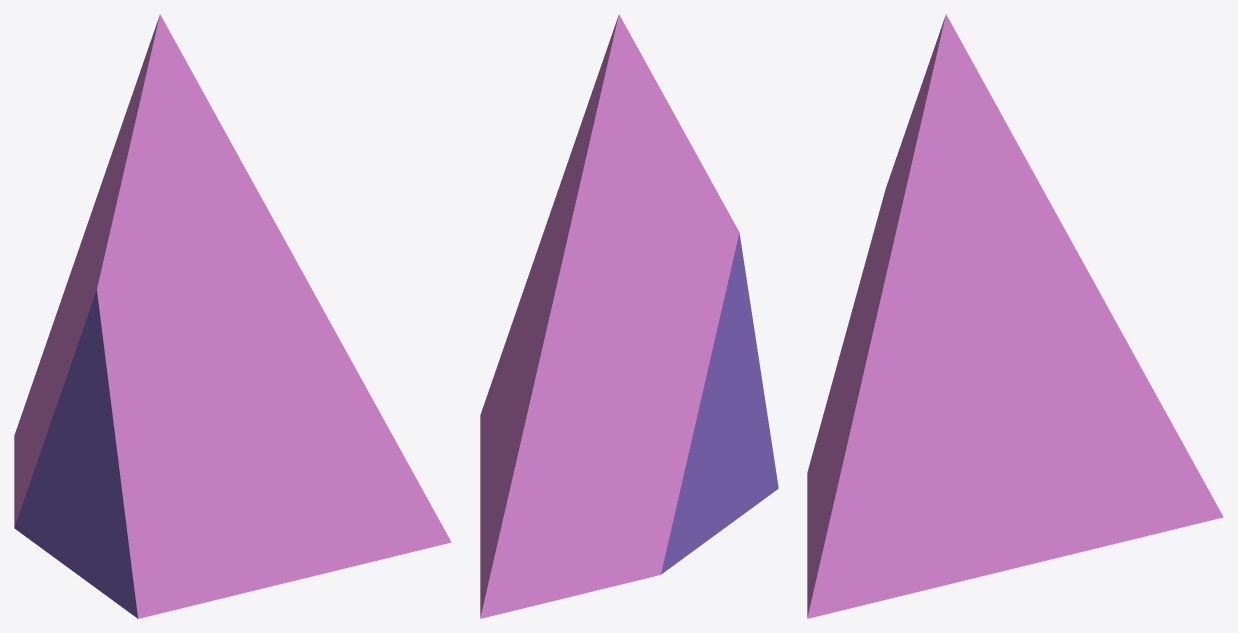
Rendered from Конус.gltf.
3 views of the same model, side by side, from view 1: azimuth 30°, elevation 25°; view 2: azimuth 150°, elevation 25°; view 3: azimuth 270°, elevation 25° (orthographic). The views are drawn at different scales.
Parts seen in each view (by area): view 1: Конус; view 2: Конус; view 3: Конус.
Part boxes in pixels (x1=…): Конус: x1=14, y1=14, x2=451, y2=618; Конус: x1=480, y1=14, x2=778, y2=618; Конус: x1=807, y1=14, x2=1223, y2=618.
Bounding box in the file's own units: 1.85 × 2.98 × 2.24.
